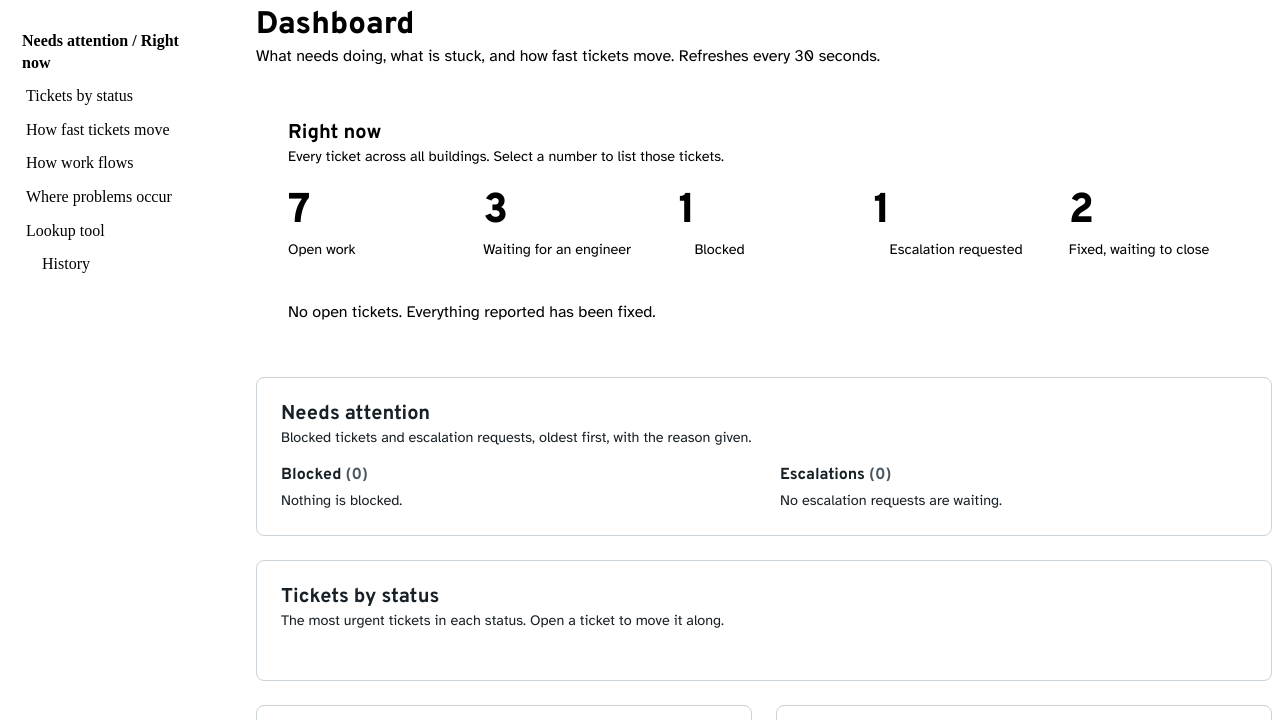
Scenario: Right now figures open the tickets behind them › says when a figure has no tickets, and shows failures with their reference
Click the button named "Fixed, waiting to close". click: (1082, 212)
box: 1069,191 -> 1094,233
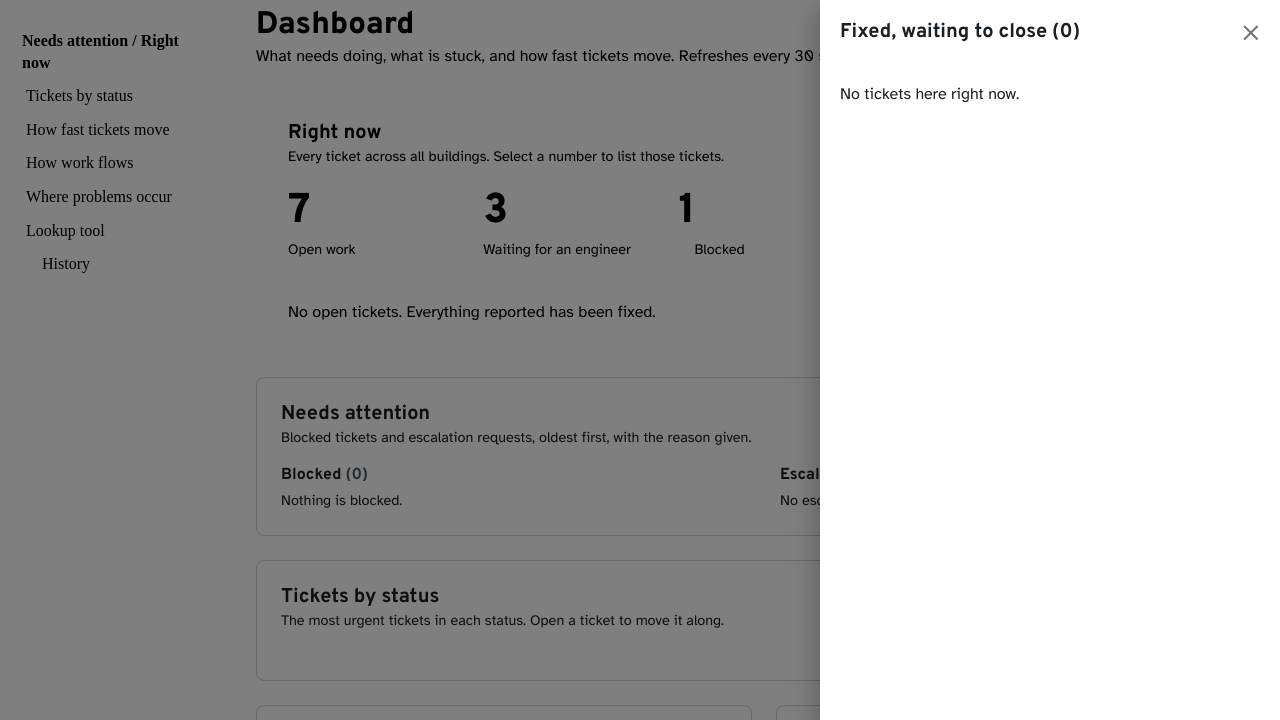
Check: the text "No tickets here right now." is shown, box 840,84 -> 1019,104
Click the button named "Close". click: (1251, 33)
box: 1230,12 -> 1272,54
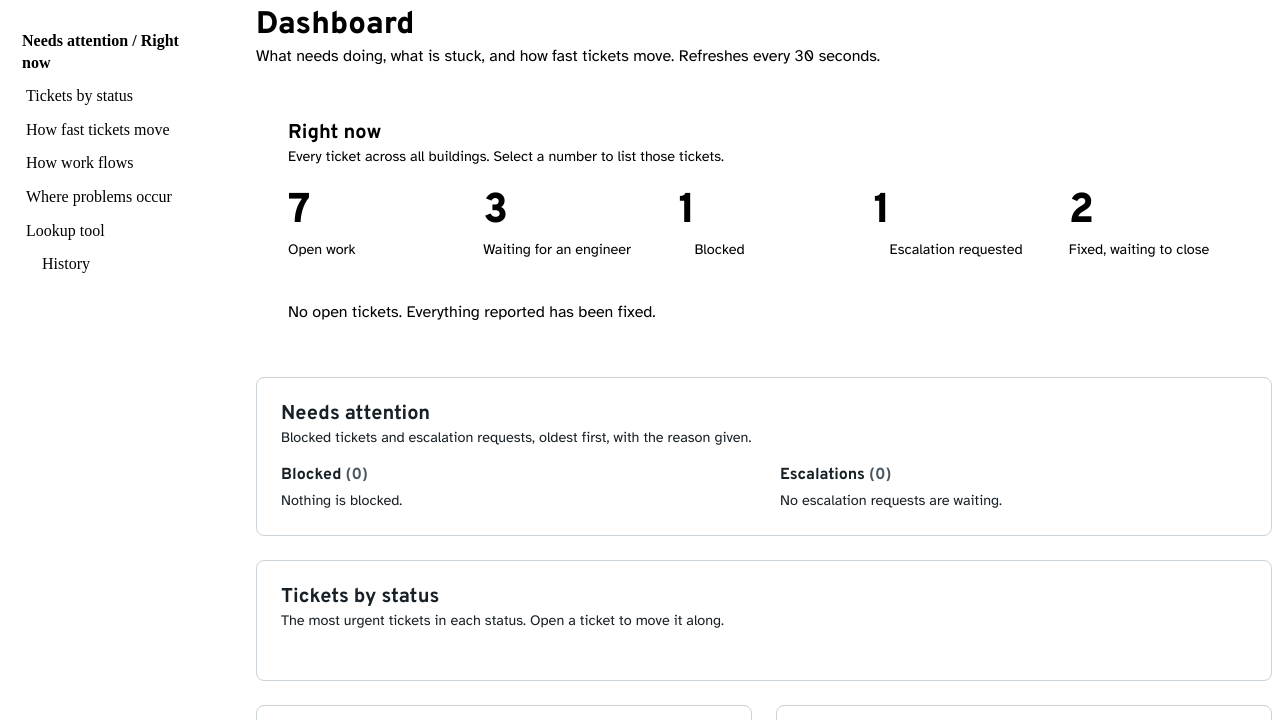
Check: the dialog is gone
Click the button named "Blocked". click: (687, 212)
box: 678,191 -> 695,233
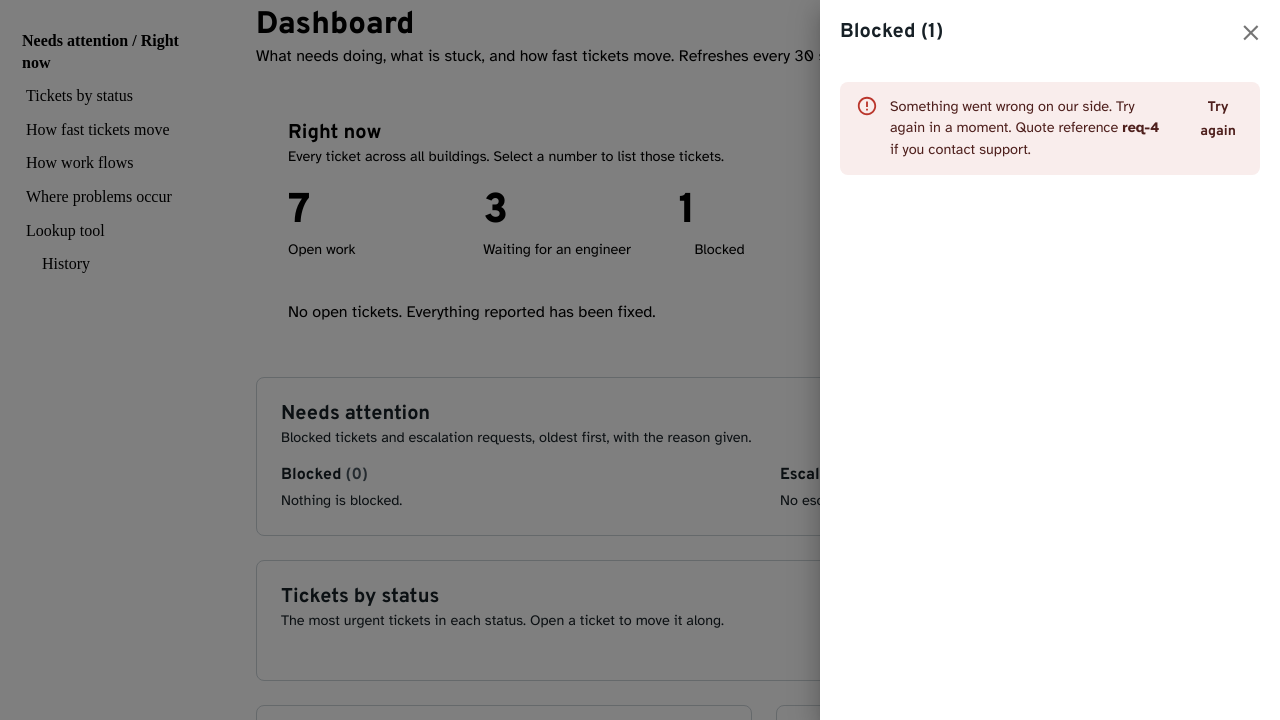
Check: the message shows "Quote reference req-4", box 840,82 -> 1260,174
Click the button "Try again". click: (1218, 120)
box: 1184,92 -> 1252,148
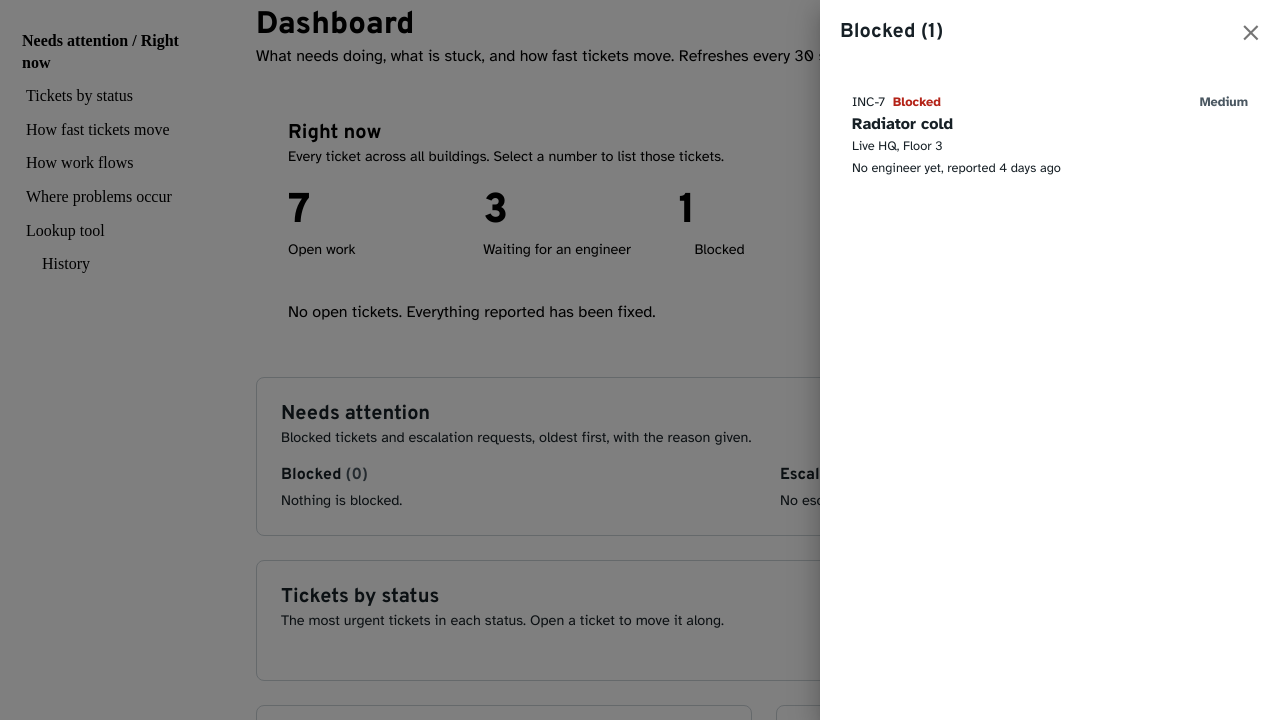
Check: the link "Radiator cold" is shown, box 840,82 -> 1260,190
